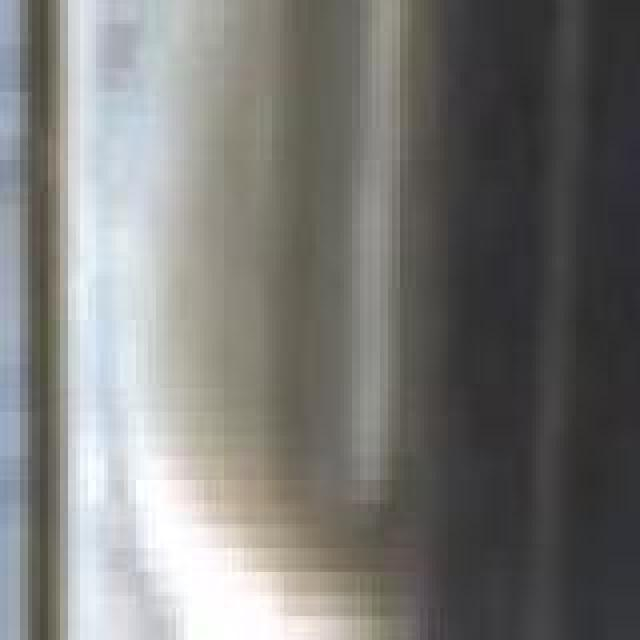diode: (328, 0, 640, 640)
